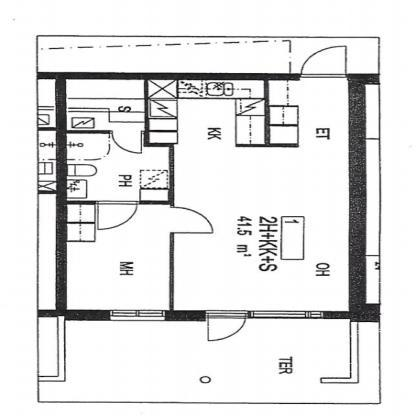door: (292, 43, 352, 81), (93, 197, 143, 231), (203, 309, 251, 343), (166, 208, 219, 236), (104, 128, 144, 156)
window: (249, 306, 327, 321), (105, 306, 169, 324)
